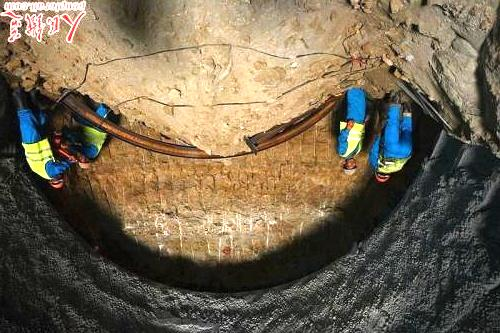helmet: (342, 158, 357, 176), (48, 176, 63, 189), (78, 155, 91, 169), (375, 171, 390, 182)
